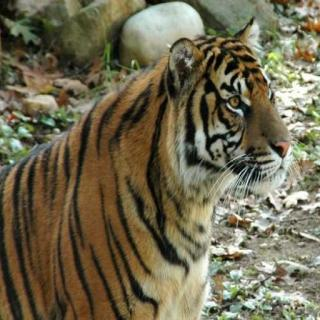Tiger: (6, 28, 317, 320)
